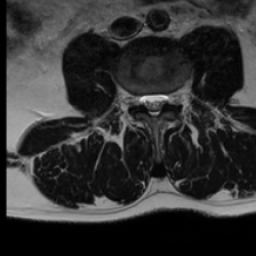CCS_normal: (149, 84, 157, 123)
LFS_normal: (168, 84, 178, 115)
LLS_normal: (157, 87, 167, 110)
RFS_normal: (130, 87, 140, 112)
RLS_normal: (140, 87, 149, 115)
